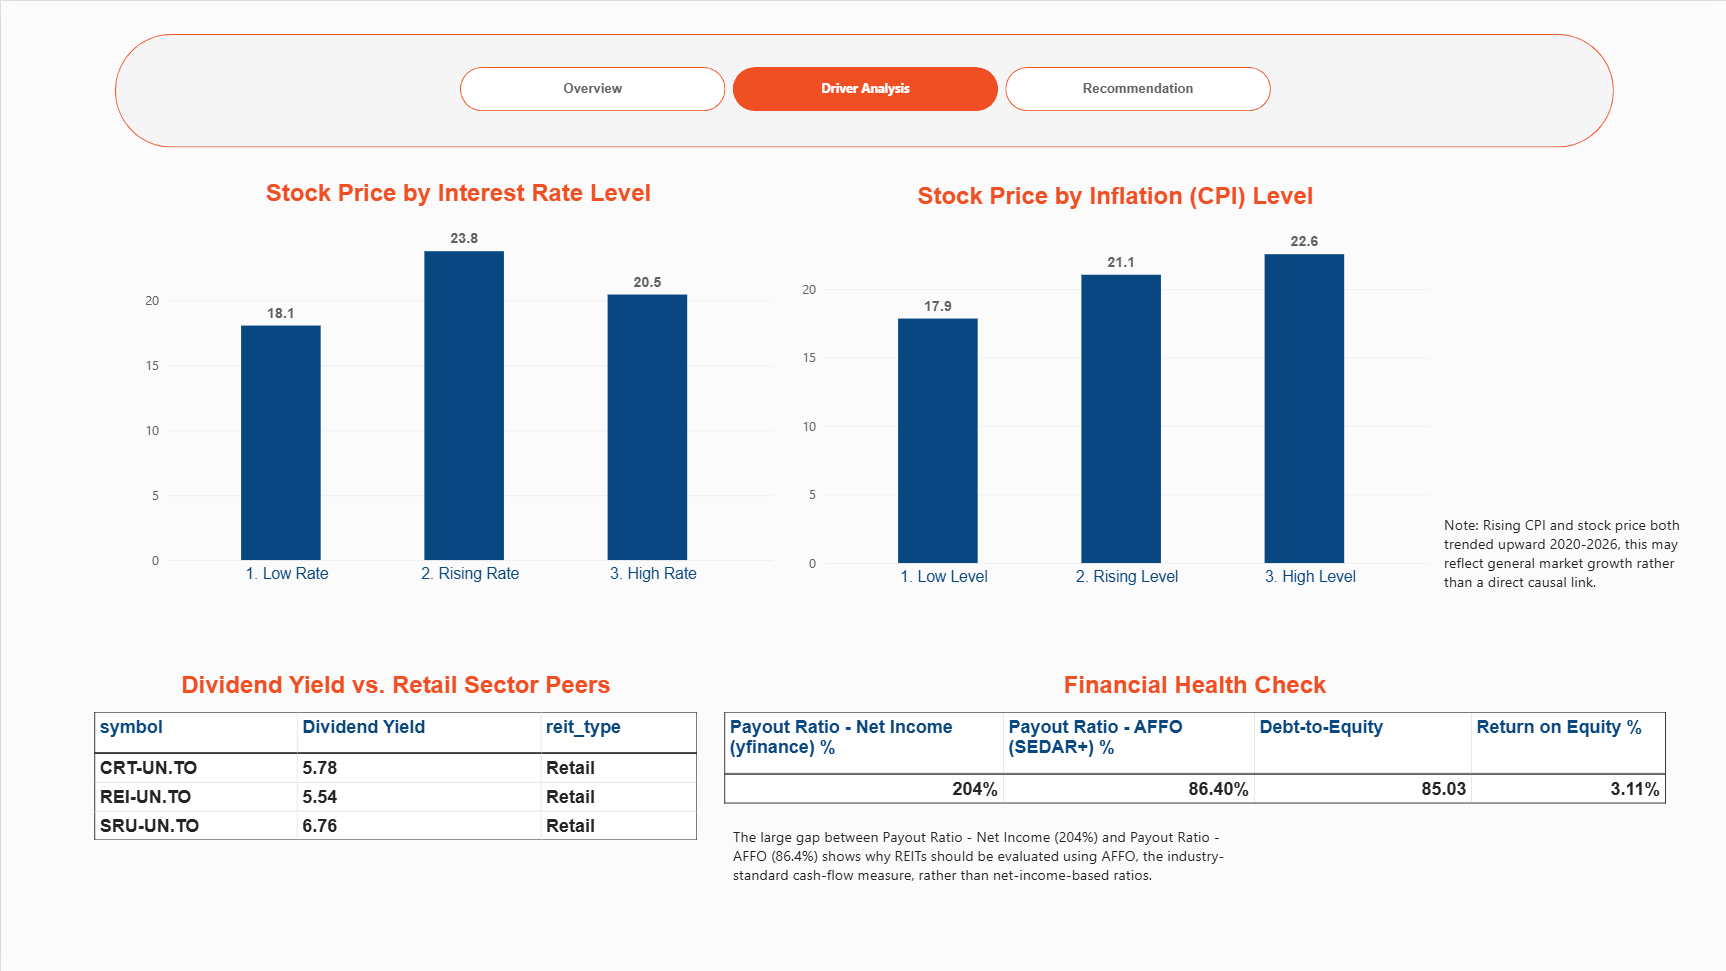

The page's visual inventory and layout, read from the dashboard file:
{"tool":"powerbi","page":{"name":"Driver Analysis","canvas":[1920,1080],"ordinal":1},"visuals":[{"type":"tableEx","title":"Financial Health Check","fields":{"Values":["Sum(smartcentres key_fundamentals.payout_ratio)","Sum(smartcentres key_fundamentals.AFFO Payout %)","Sum(smartcentres key_fundamentals.debt_to_equity)","Sum(smartcentres key_fundamentals.return_on_equity)"]},"box":[785,730,1080,187.5],"z":0},{"type":"shape","box":[126.1,35,1665.4,126.1],"z":1000},{"type":"pageNavigator","box":[509.2,72.4,901.6,49.1],"z":2000},{"type":"clusteredColumnChart","title":"Stock Price by Interest Rate Level","fields":{"Category":["smartcentres v_price_by_interest_rate.rate_period"],"Y":["Sum(smartcentres v_price_by_interest_rate.avg_stock_price)"]},"box":[144.9,181.8,729.9,482.8],"z":3000},{"type":"clusteredColumnChart","title":"Stock Price by Inflation (CPI) Level","fields":{"Category":["smartcentres v_price_by_cpi_level.cpi_level"],"Y":["Sum(smartcentres v_price_by_cpi_level.avg_stock_price)"]},"box":[873.3,186.7,729.9,482.8],"z":4000},{"type":"tableEx","title":"Dividend Yield vs. Retail Sector Peers","fields":{"Values":["smartcentres v_yield_retail_peers.symbol","Sum(smartcentres v_yield_retail_peers.dividend_yield)","smartcentres v_yield_retail_peers.reit_type"]},"box":[86.7,730,704.4,292.5],"z":5000},{"type":"textbox","box":[1602.5,570,262.5,100],"z":6000},{"type":"textbox","box":[1603,187,188,483],"z":7000},{"type":"textbox","box":[812.5,917.5,567.5,85],"z":8000}]}

Visuals, with their boxes in screenshot pixels (x1, y1, x2, y2), scaled from the page's 1920x1080 canvas onto the 1726x971 screenshot:
"Financial Health Check" tableEx: (x1=706, y1=656, x2=1677, y2=825)
shape: (x1=113, y1=31, x2=1610, y2=145)
pageNavigator: (x1=458, y1=65, x2=1268, y2=109)
"Stock Price by Interest Rate Level" clusteredColumnChart: (x1=130, y1=163, x2=786, y2=598)
"Stock Price by Inflation (CPI) Level" clusteredColumnChart: (x1=785, y1=168, x2=1441, y2=602)
"Dividend Yield vs. Retail Sector Peers" tableEx: (x1=78, y1=656, x2=711, y2=919)
textbox: (x1=1441, y1=512, x2=1677, y2=602)
textbox: (x1=1441, y1=168, x2=1610, y2=602)
textbox: (x1=730, y1=825, x2=1241, y2=901)
